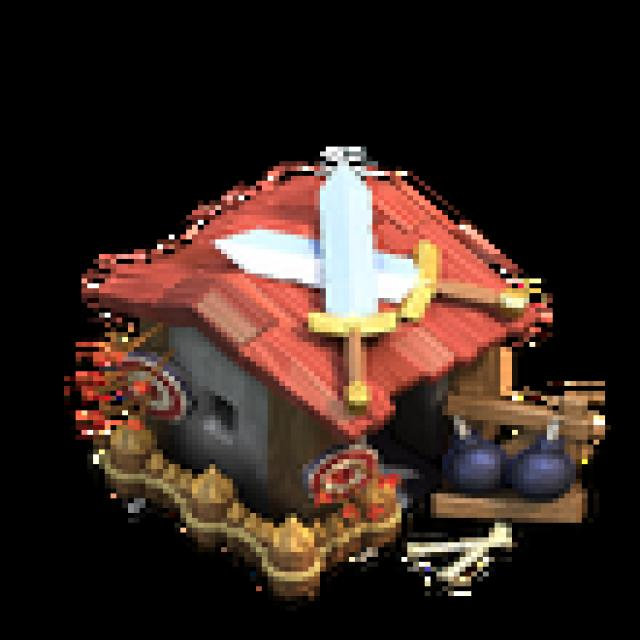barracks: (35, 147, 640, 626)
